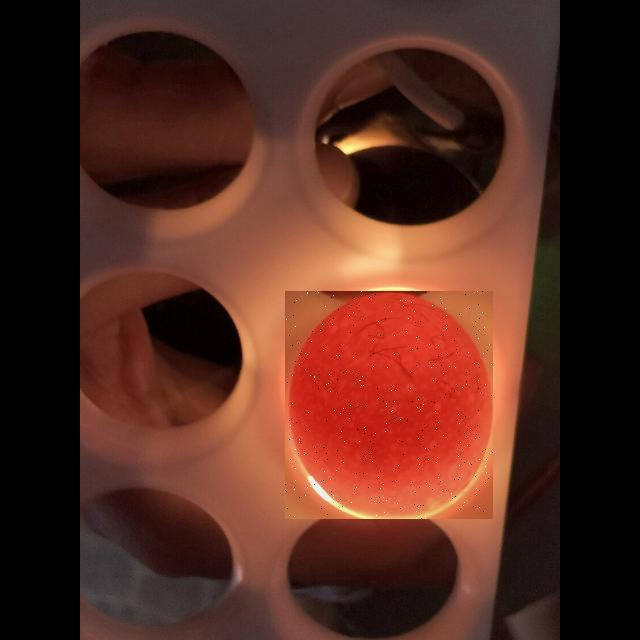Infertile: (285, 291, 493, 519)
